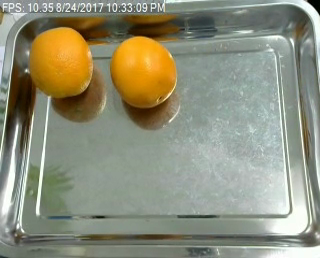Orange: (110, 36, 177, 107), (29, 26, 93, 99)
